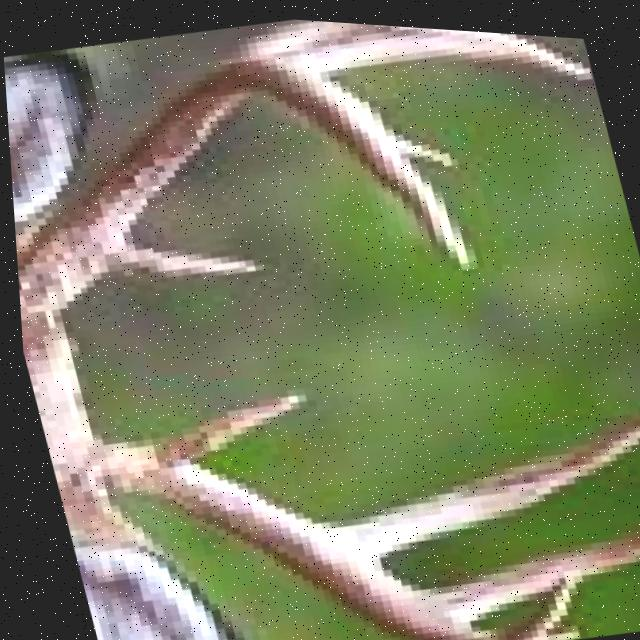L-F: (13, 53, 477, 329)
L-G1: (96, 239, 267, 278)
L-G3: (277, 24, 524, 72)
L-G4: (383, 118, 463, 169)
R-F: (61, 432, 568, 640)
R-G1: (139, 381, 309, 462)
R-G2: (305, 397, 640, 553)
